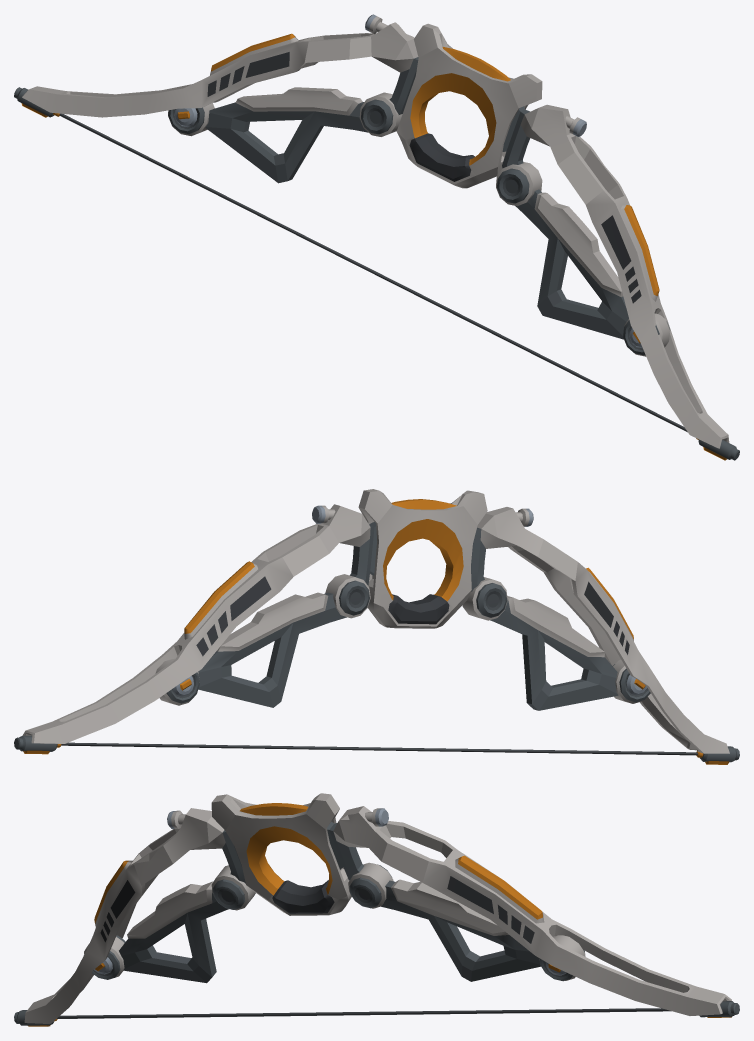
Rendered from bw-recurve-08.glb.
The picture shows the model from 3 angles, top to bottom: view 1: azimuth 90°, elevation 25°; view 2: azimuth 150°, elevation 25°; view 3: azimuth 270°, elevation 25°; orthographic projection.
Parts seen in each view (by area): view 1: bw-recurve-08; view 2: bw-recurve-08; view 3: bw-recurve-08.
Part boxes in pixels (box(x1,y1,x2,y2)): bw-recurve-08: box(14, 14, 739, 460); bw-recurve-08: box(14, 489, 739, 764); bw-recurve-08: box(14, 793, 739, 1026).
Size of the model in its own units: 0.8284 by 0.7098 by 1.4.
1 material, 1 textured.
